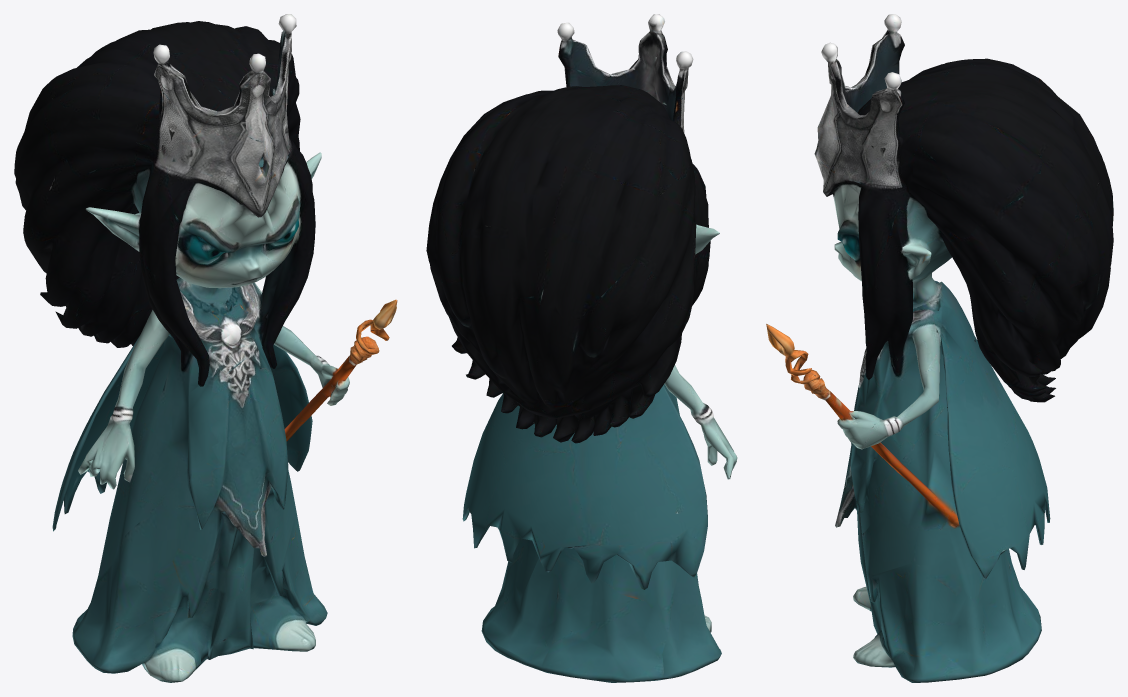
File: gen_drownqueen.glb
3 views of the same model, side by side, from view 1: azimuth 30°, elevation 25°; view 2: azimuth 150°, elevation 25°; view 3: azimuth 270°, elevation 25° (orthographic). The views are drawn at different scales.
Visible parts, largest first — view 1: Model; view 2: Model; view 3: Model.
Boxes of the visible parts, <box> form: Model: <box>14,14,397,682</box>; Model: <box>426,14,737,682</box>; Model: <box>766,14,1113,682</box>.
Bounding box in the file's own units: 0.8389 × 1.9 × 1.01.
Materials: 1 (1 with a texture image).
